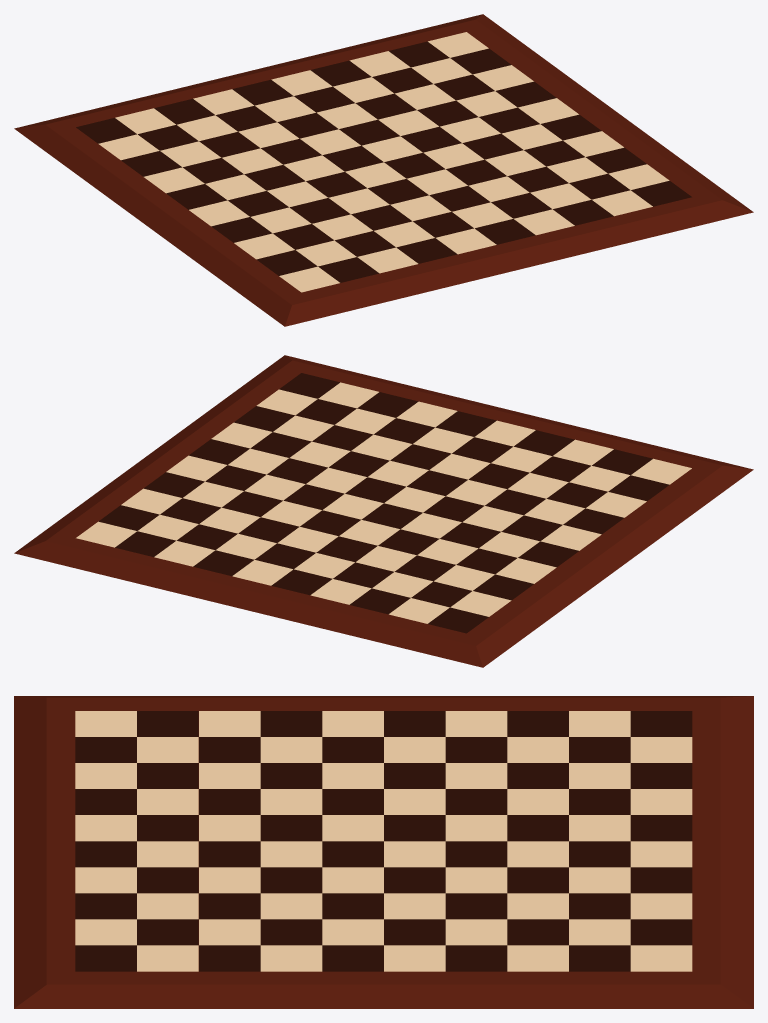
File: Dambord.fbx
3 renders of one model, top to bottom at view 1: azimuth 30°, elevation 25°; view 2: azimuth 150°, elevation 25°; view 3: azimuth 270°, elevation 25°, orthographic. The views are drawn at different scales.
Visible parts, largest first — view 1: Cube, Plane.091, Plane.010, Plane.020, Plane.025, Plane.033, Plane.041, Plane.040, Plane.099, Plane.095, Plane.090, Plane.001 (+89 smaller); view 2: Cube, Plane.096, Plane.006, Plane.007, Plane.014, Plane.022, Plane.027, Plane.037, Plane.061, Plane.072, Plane.092, Plane.088 (+89 smaller); view 3: Cube, Plane.096, Plane.091, Plane.084, Plane.013, Plane.012, Plane.011, Plane.008, Plane.039, Plane.036, Plane.035, Plane.034 (+89 smaller).
Part boxes in pixels (x1=…): Cube: x1=14, y1=14, x2=753, y2=326; Plane.091: x1=495, y1=81, x2=556, y2=107; Plane.010: x1=328, y1=188, x2=389, y2=214; Plane.020: x1=345, y1=162, x2=406, y2=188; Plane.025: x1=205, y1=174, x2=266, y2=200; Plane.033: x1=144, y1=167, x2=204, y2=193; Plane.041: x1=160, y1=141, x2=220, y2=167; Plane.040: x1=355, y1=93, x2=416, y2=119; Plane.099: x1=586, y1=147, x2=646, y2=173; Plane.095: x1=540, y1=114, x2=601, y2=140; Plane.090: x1=456, y1=91, x2=517, y2=116; Plane.001: x1=234, y1=233, x2=294, y2=259; Cube: x1=14, y1=355, x2=753, y2=667; Plane.096: x1=211, y1=422, x2=272, y2=448; Plane.006: x1=547, y1=482, x2=607, y2=508; Plane.007: x1=351, y1=434, x2=412, y2=460; Plane.014: x1=563, y1=508, x2=623, y2=534; Plane.022: x1=501, y1=515, x2=562, y2=541; Plane.027: x1=361, y1=503, x2=422, y2=529; Plane.037: x1=378, y1=529, x2=439, y2=555; Plane.061: x1=154, y1=540, x2=215, y2=566; Plane.072: x1=396, y1=401, x2=457, y2=427; Plane.092: x1=166, y1=455, x2=227, y2=481; Plane.088: x1=121, y1=488, x2=181, y2=514; Cube: x1=14, y1=696, x2=753, y2=1008; Plane.096: x1=260, y1=945, x2=322, y2=971; Plane.091: x1=445, y1=945, x2=507, y2=971; Plane.084: x1=630, y1=945, x2=692, y2=971; Plane.013: x1=260, y1=893, x2=322, y2=919; Plane.012: x1=260, y1=841, x2=322, y2=867; Plane.011: x1=260, y1=815, x2=322, y2=841; Plane.008: x1=260, y1=867, x2=322, y2=893; Plane.039: x1=445, y1=867, x2=507, y2=893; Plane.036: x1=445, y1=815, x2=507, y2=841; Plane.035: x1=445, y1=841, x2=507, y2=867; Plane.034: x1=445, y1=893, x2=507, y2=919.
Bounding box in the file's own units: 600 × 10.1 × 600.
